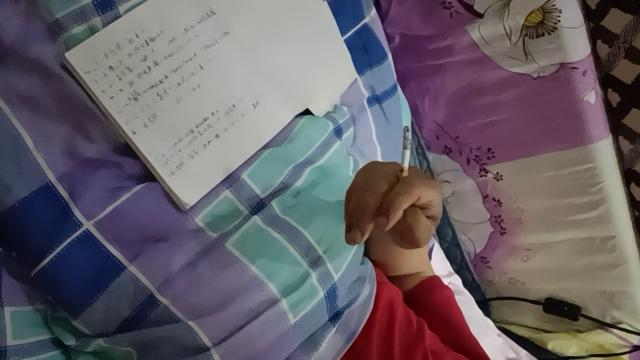Cigarette: (396, 125, 412, 193)
